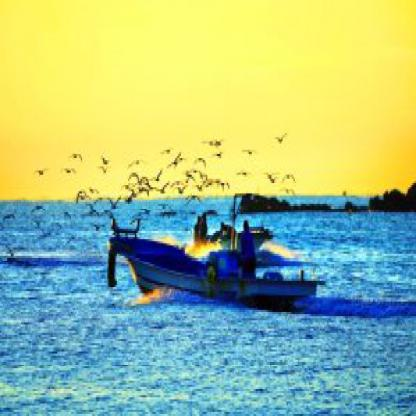fish-b: (100, 198, 328, 320)
